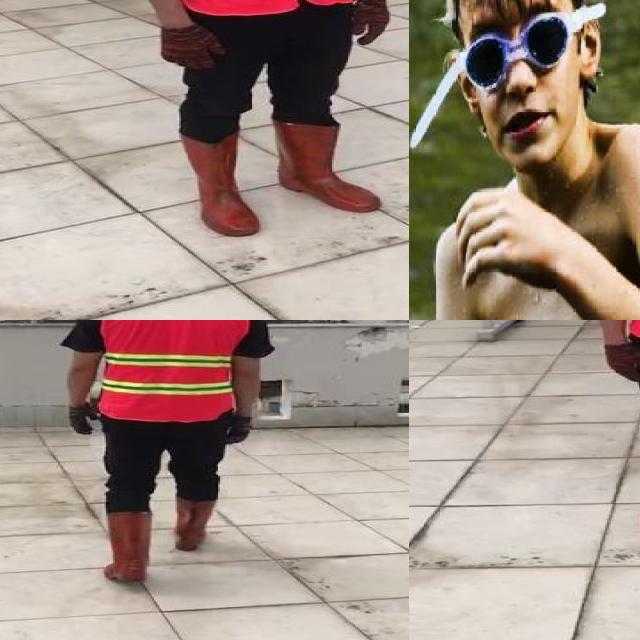boots: (268, 117, 382, 213), (181, 134, 259, 237), (104, 512, 154, 584), (172, 497, 218, 550)
face_nomask: (468, 17, 574, 154)
glasses: (447, 11, 595, 97)
hand_glove: (156, 26, 225, 72), (353, 0, 388, 48), (601, 342, 640, 381), (67, 403, 99, 436), (225, 417, 250, 445)
hand_noglove: (452, 180, 544, 284)
person: (95, 0, 409, 253), (409, 0, 640, 320), (58, 320, 268, 594)
vest: (99, 320, 243, 421)
